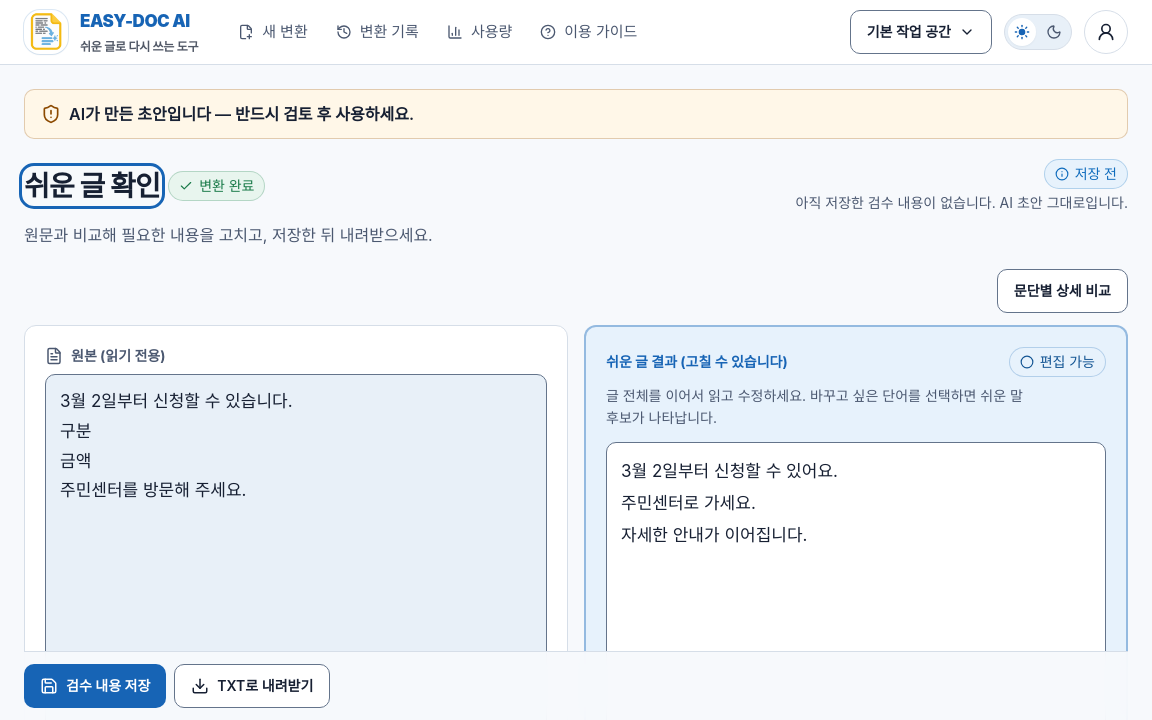
Scenario: ①  랜드마크와 건너뛰기 링크 › 검수 (문단 대응표) 화면에 banner·main 랜드마크와 본문 건너뛰기 링크가 있다
Click the button "문단별 상세 비교": (1062, 291) [997,269,1128,313]
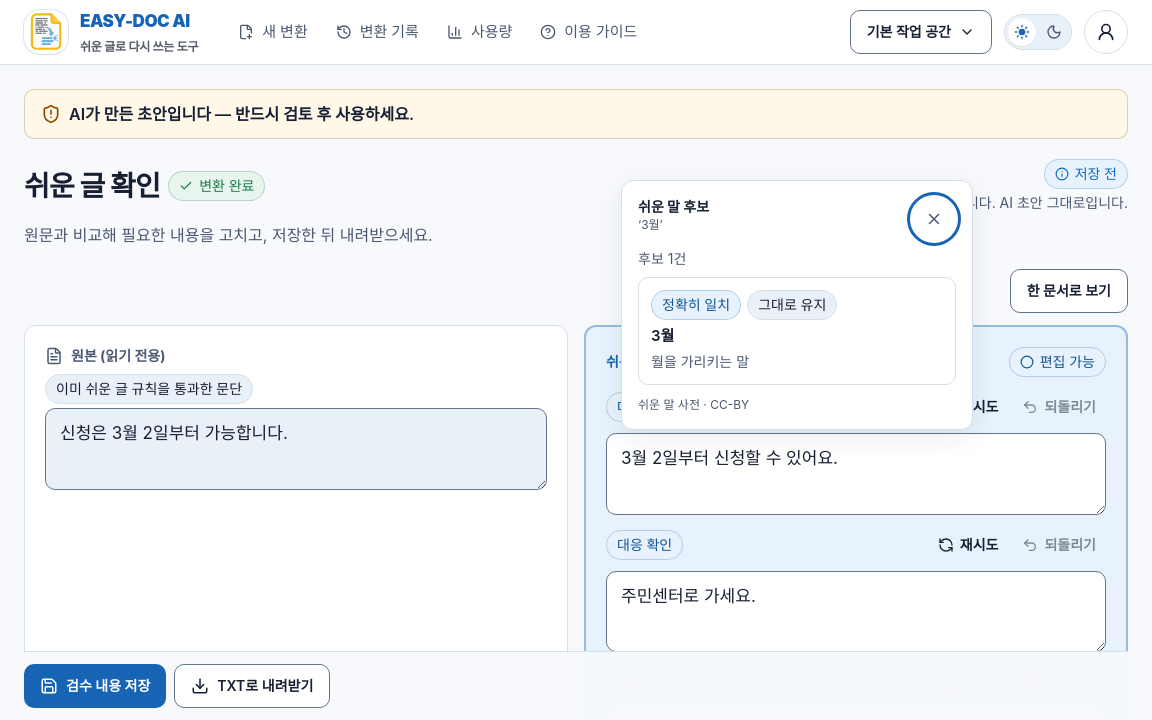
Result: the dialog "쉬운 말 후보" is shown at [621,180,973,430]
